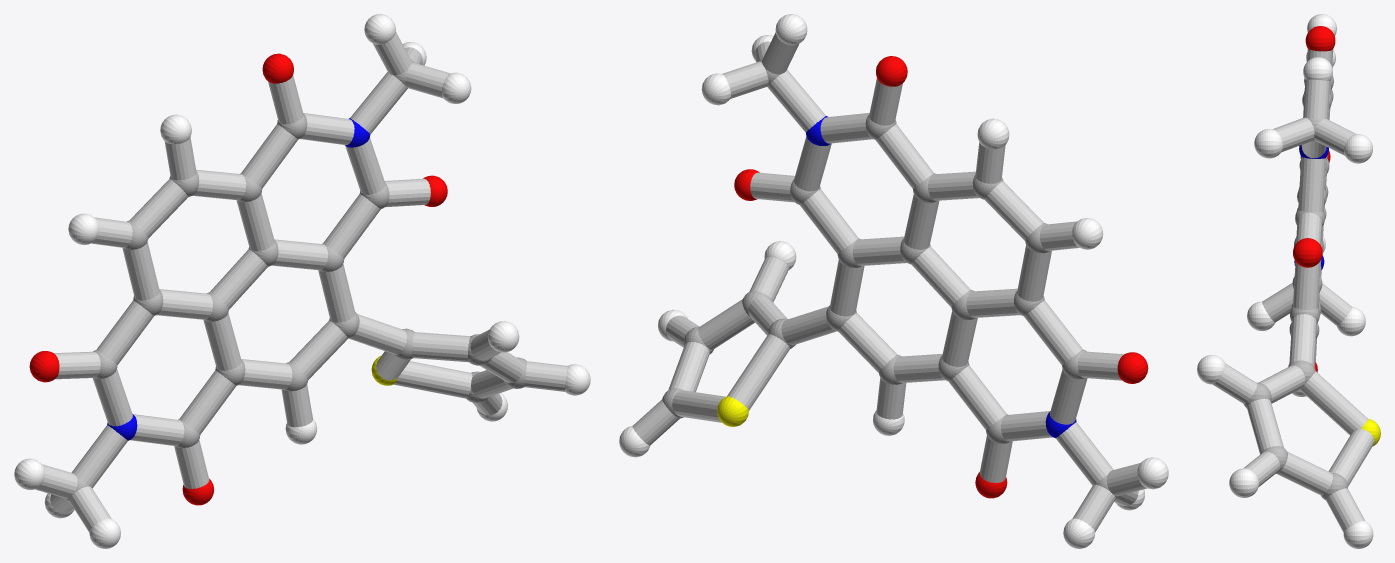
The model's file is Dimethyl_Naphthalene_Dicarboximide_Phi_0_Theta_60_Thiophene.glb.
The picture shows the model from 3 angles, left to right: view 1: azimuth 30°, elevation 25°; view 2: azimuth 150°, elevation 25°; view 3: azimuth 270°, elevation 25°; orthographic projection. The views are drawn at different scales.
Parts seen in each view (by area): view 1: grp14119, grp7241, grp1, grp12309, grp11585; view 2: grp14119, grp7241, grp1, grp12309, grp13757, grp11585; view 3: grp14119, grp7241, grp1, grp12309, grp13757.
Boxes of the visible parts, <box> form: grp14119: <box>35,31,567,532</box>; grp7241: <box>14,14,590,548</box>; grp1: <box>65,59,527,501</box>; grp12309: <box>29,53,447,505</box>; grp11585: <box>107,118,370,440</box>; grp14119: <box>632,32,1147,531</box>; grp7241: <box>619,14,1168,548</box>; grp1: <box>662,58,1119,498</box>; grp12309: <box>734,56,1148,498</box>; grp13757: <box>717,396,748,426</box>; grp11585: <box>806,116,1076,438</box>; grp14119: <box>1212,48,1374,532</box>; grp7241: <box>1197,14,1373,548</box>; grp1: <box>1243,76,1347,500</box>; grp12309: <box>1288,26,1335,372</box>; grp13757: <box>1361,419,1380,446</box>.
Bounding box in the file's own units: 11.75 × 9.47 × 3.69.
